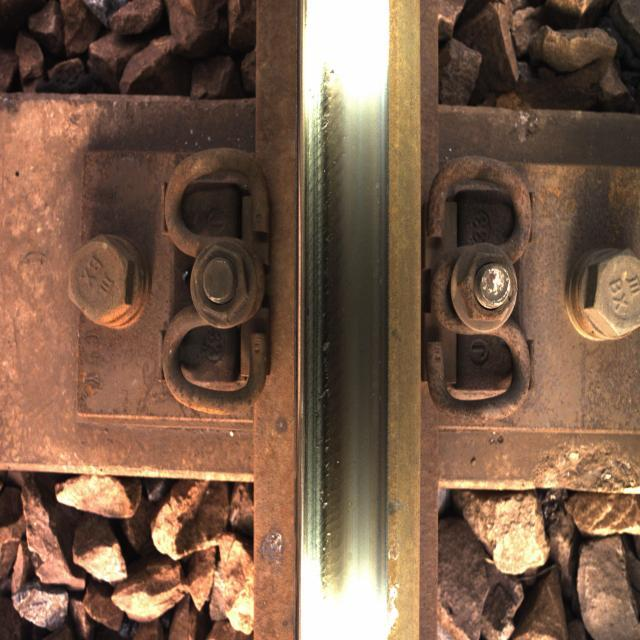normal: (305, 46, 376, 602)
